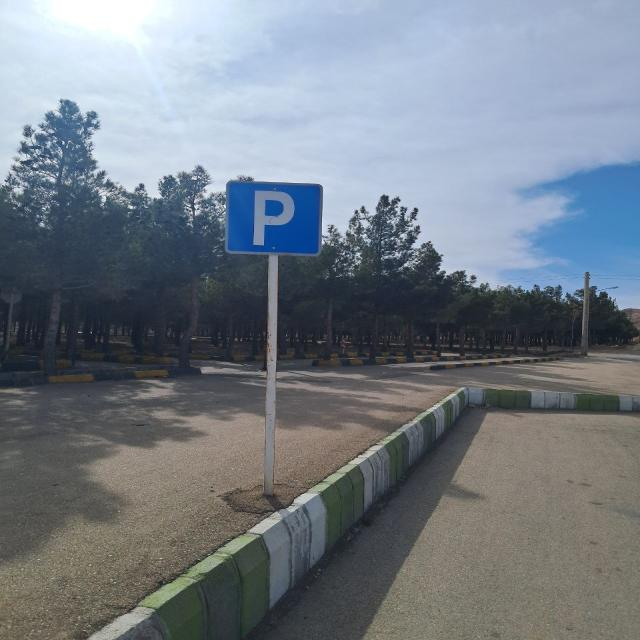parking lot: (222, 178, 328, 260)
